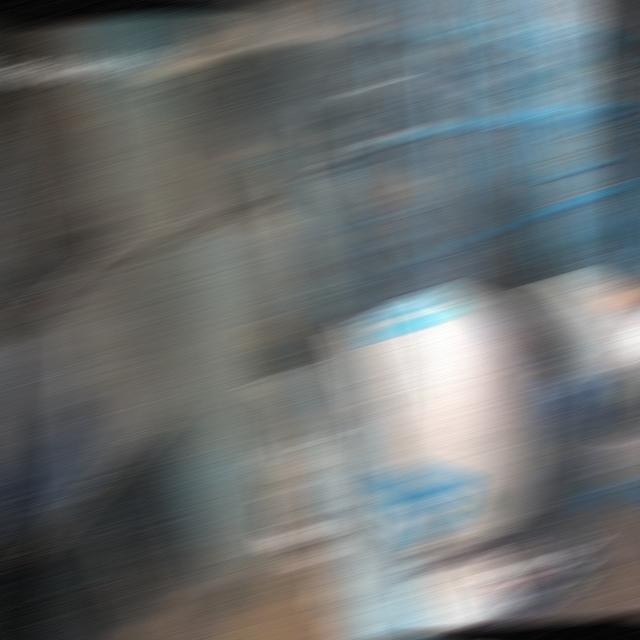cement_mixer_truck: (241, 266, 640, 637)
swing_chute: (220, 125, 354, 350)
